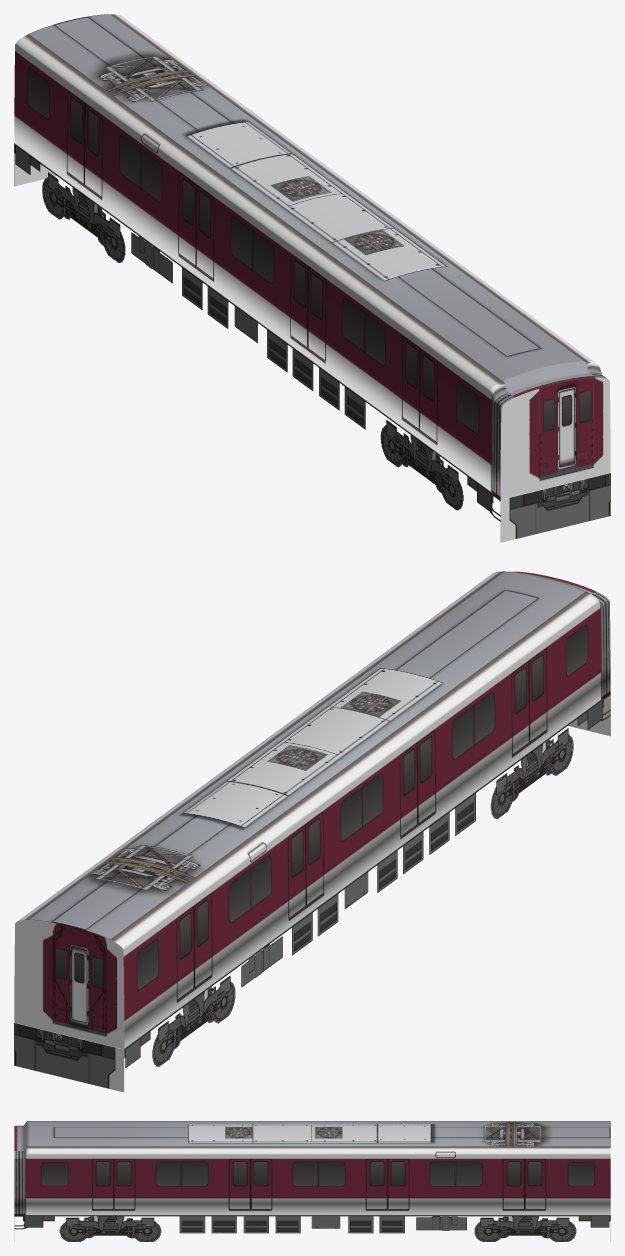
File: car2.glb
3 views of the same model, one above another, from view 1: azimuth 30°, elevation 25°; view 2: azimuth 150°, elevation 25°; view 3: azimuth 270°, elevation 25° (orthographic). The views are drawn at different scales.
Visible parts, largest first — view 1: kintetsu-1020-car2; view 2: kintetsu-1020-car2; view 3: kintetsu-1020-car2.
Part boxes in pixels (left/top/right/bottom): kintetsu-1020-car2: left=14, top=14, right=610, bottom=542; kintetsu-1020-car2: left=14, top=571, right=610, bottom=1092; kintetsu-1020-car2: left=14, top=1121, right=610, bottom=1241.
Size of the model in its own units: 2.8 by 3.71 by 21.44.
Materials: 8 (7 with a texture image).
